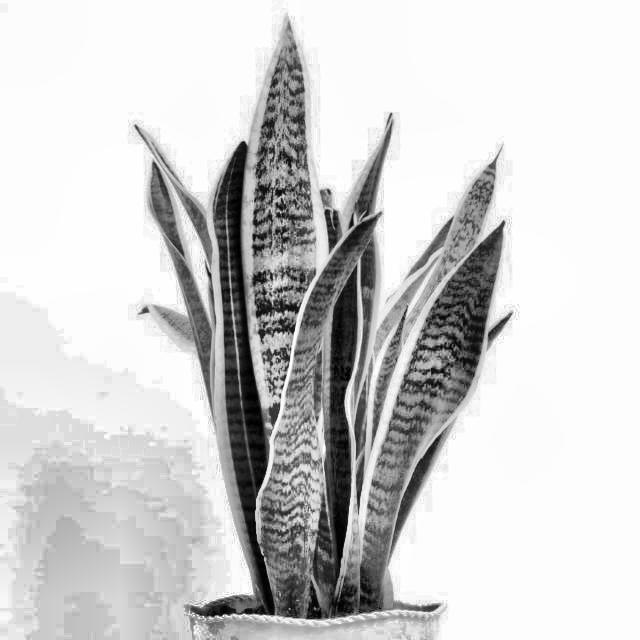plants: (94, 21, 526, 618)
